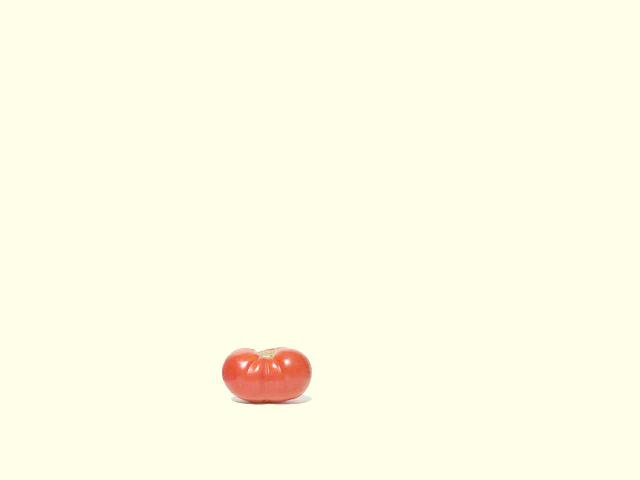tomato: (221, 347, 311, 402)
